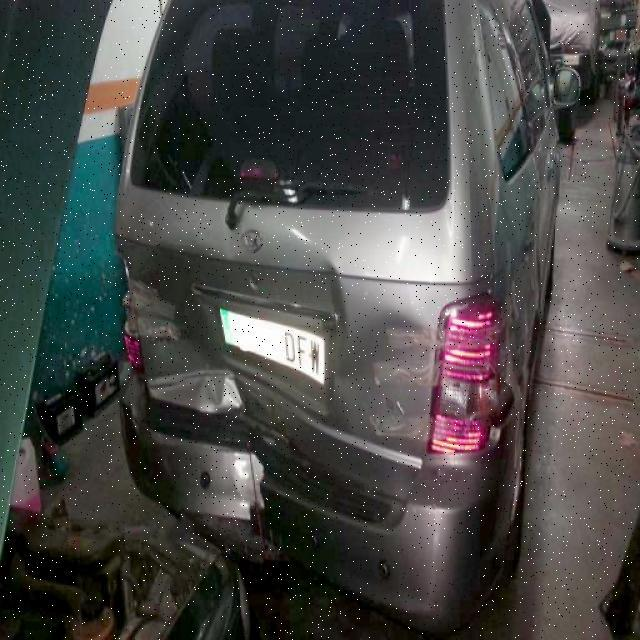car damage: (119, 249, 424, 522), (263, 232, 364, 341), (212, 206, 246, 263)
